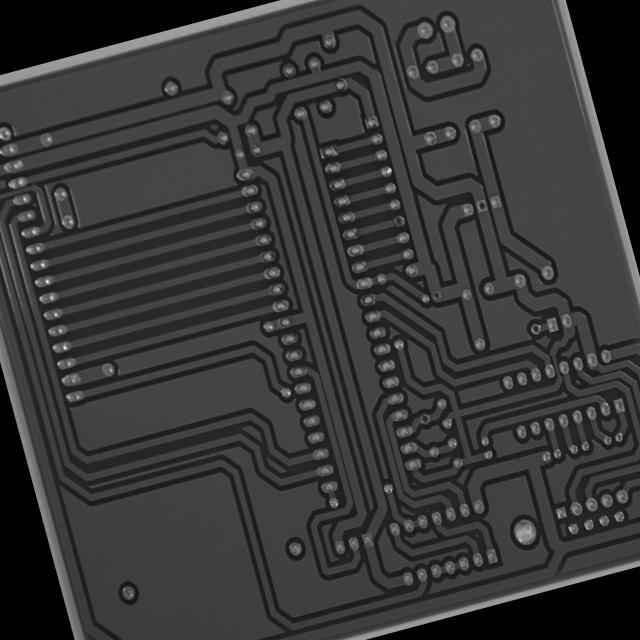missing_hole: (472, 194, 491, 215), (414, 409, 434, 428), (526, 318, 544, 338), (429, 286, 446, 304), (391, 211, 408, 229)
